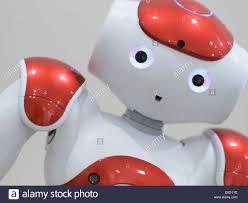nao: (17, 1, 248, 186)
